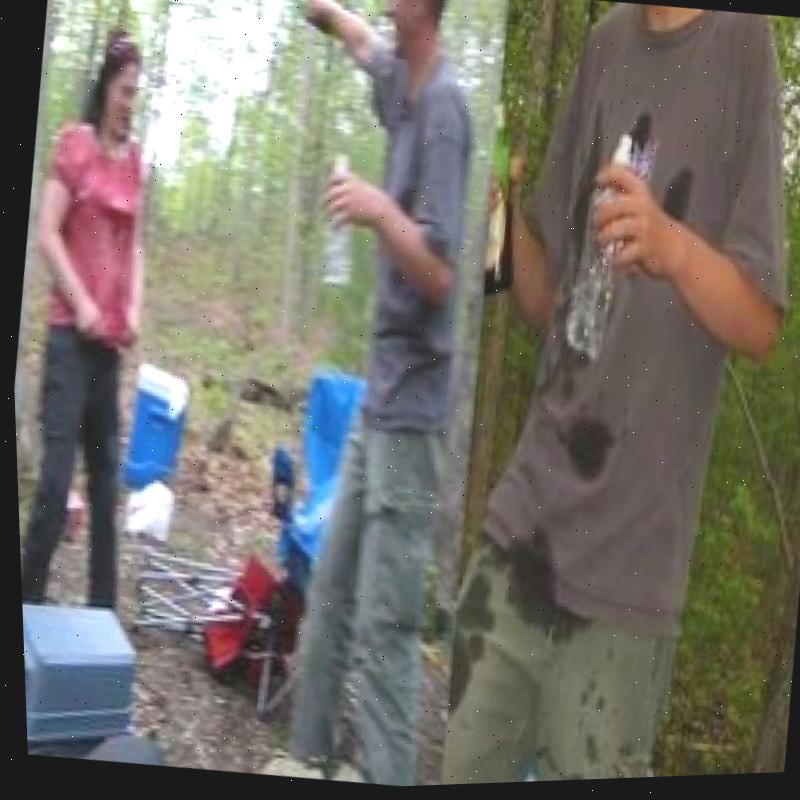botella: (551, 133, 651, 367), (310, 152, 365, 291)
